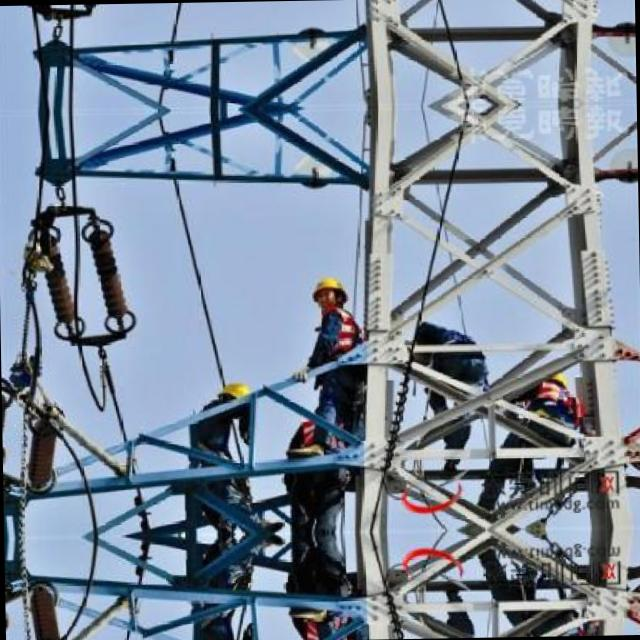helmet: (215, 372, 253, 414), (312, 270, 345, 312)
